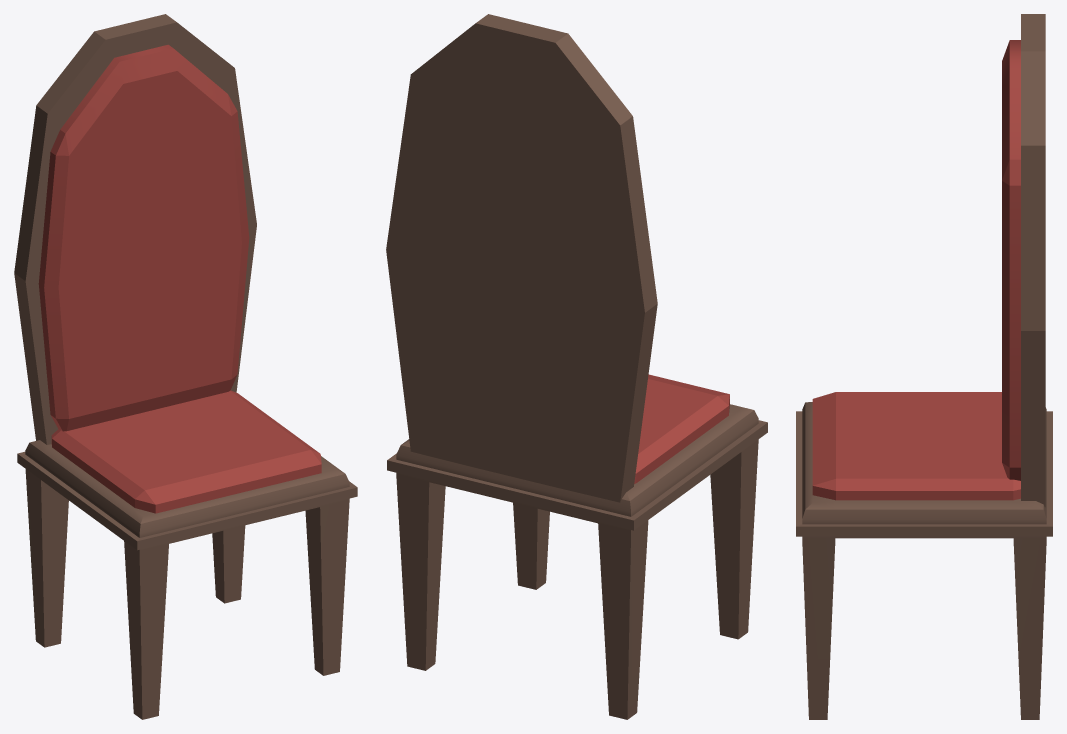
Rendered from geo_HighDiningChair_01.fbx.
3 renders of one model, left to right at view 1: azimuth 30°, elevation 25°; view 2: azimuth 150°, elevation 25°; view 3: azimuth 270°, elevation 25°, orthographic. The views are drawn at different scales.
Parts seen in each view (by area): view 1: geo_diningChairPillow_02, geo_diningChairSeat_01, geo_diningChairPillow_01, geo_diningChairBack_01; view 2: geo_diningChairBack_01, geo_diningChairSeat_01, geo_diningChairPillow_01; view 3: geo_diningChairSeat_01, geo_diningChairPillow_01, geo_diningChairBack_01, geo_diningChairPillow_02.
Part boxes in pixels (x1,y1,x2,y2): geo_diningChairPillow_02: [38, 44, 249, 431]; geo_diningChairSeat_01: [17, 440, 357, 719]; geo_diningChairPillow_01: [51, 390, 321, 513]; geo_diningChairBack_01: [14, 14, 256, 444]; geo_diningChairBack_01: [386, 14, 657, 502]; geo_diningChairSeat_01: [387, 404, 767, 719]; geo_diningChairPillow_01: [634, 374, 729, 483]; geo_diningChairSeat_01: [796, 402, 1052, 719]; geo_diningChairPillow_01: [812, 392, 1020, 500]; geo_diningChairBack_01: [1021, 14, 1045, 507]; geo_diningChairPillow_02: [1002, 40, 1020, 480].
Bounding box in the file's own units: 40.58 × 99.27 × 36.39.
